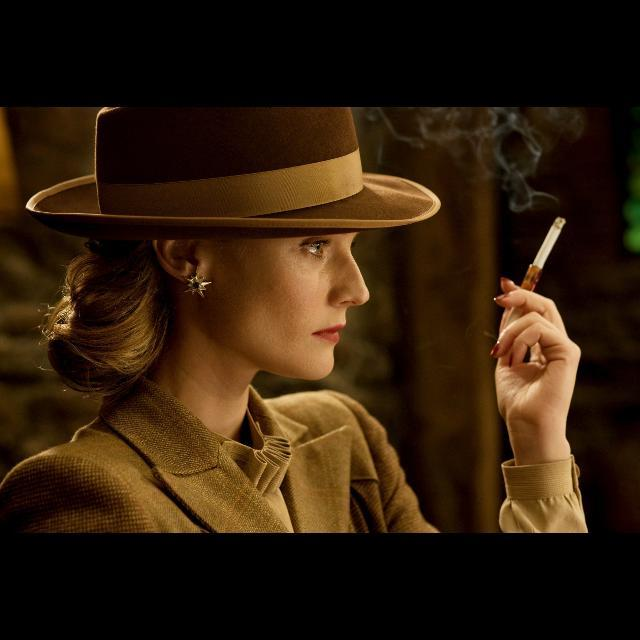rokok: (536, 214, 566, 270)
